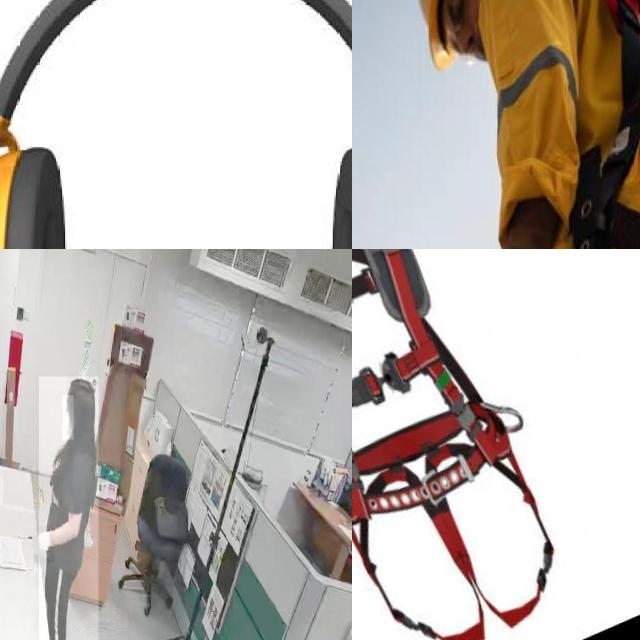Ear-protection: (0, 0, 352, 249)
Harness: (352, 249, 555, 640)
face_mask: (62, 395, 74, 440)
hand_glove: (34, 526, 55, 563)
head_nohelmet: (67, 376, 95, 398)
person: (39, 376, 99, 640)
